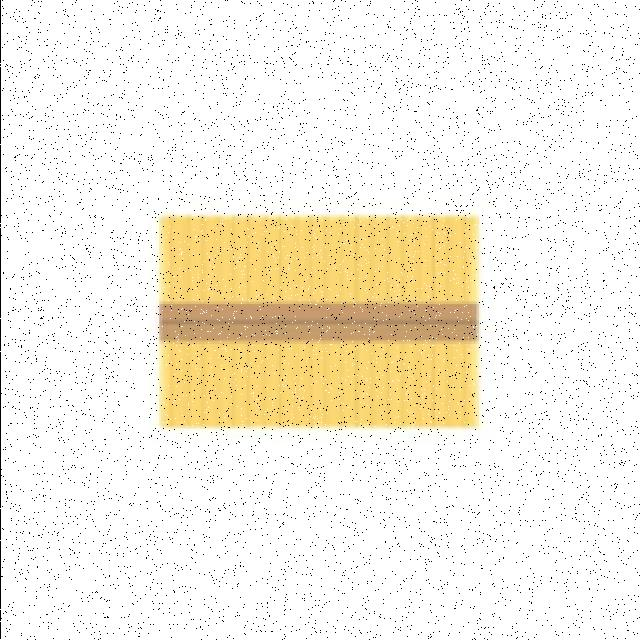normal: (152, 208, 485, 435)
